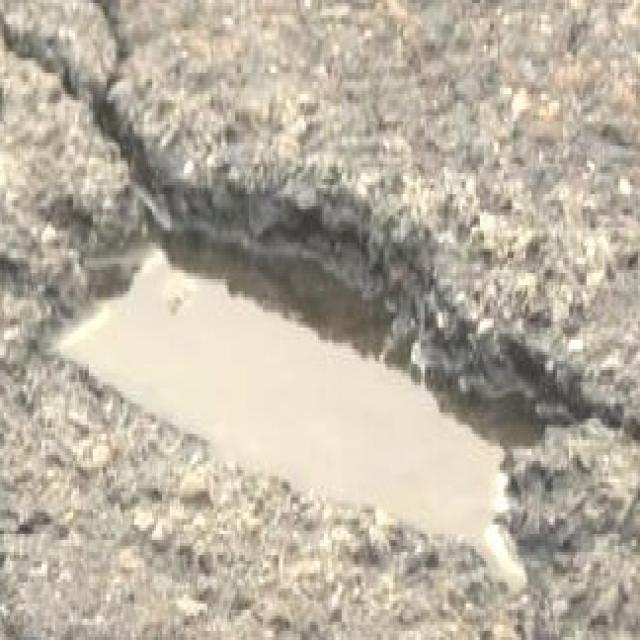road-pothole: (11, 171, 621, 600)
